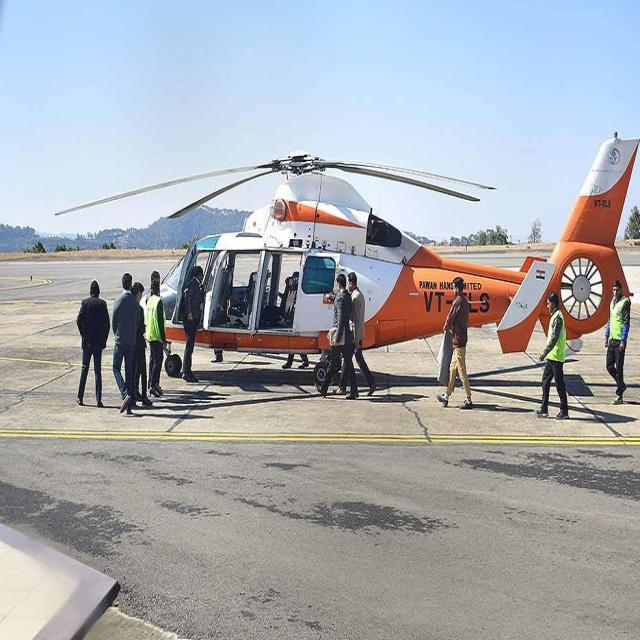helicopter: (55, 129, 640, 373)
